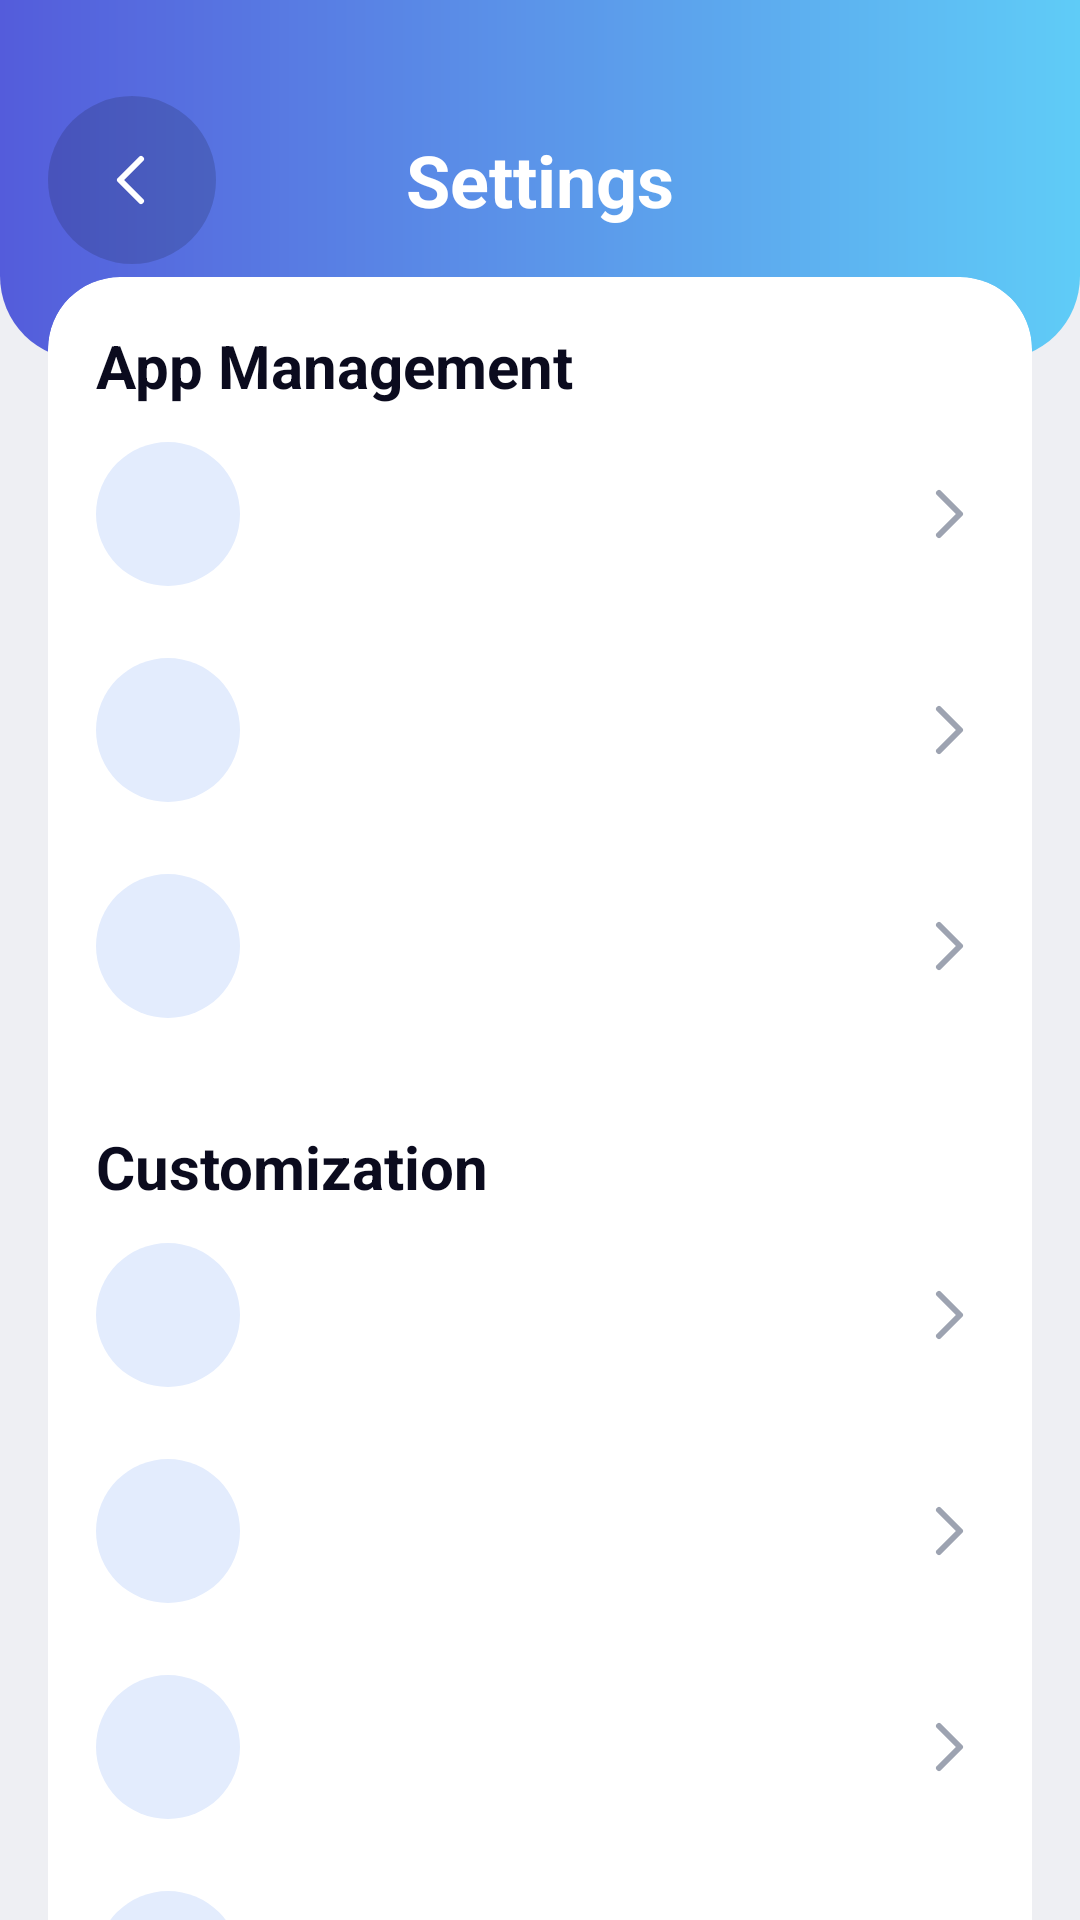

Named icons in this screenshot (1080 x 1920) and their centers, (x=x, y=y):
chevron right: (x=949, y=514), (x=949, y=730), (x=949, y=946), (x=949, y=1315), (x=949, y=1531), (x=949, y=1747)
